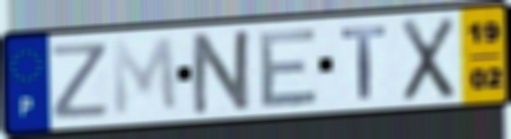E: (257, 24, 322, 111)
M: (108, 34, 182, 119)
N: (190, 25, 258, 117)
T: (337, 23, 389, 102)
X: (399, 14, 458, 104)
Z: (49, 40, 111, 123)
